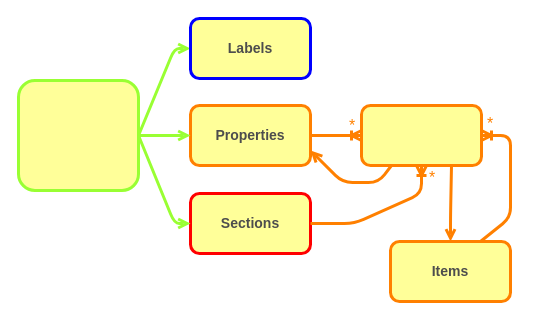
The diagram is 537 pixels wide and 320 high, and some of its shapes have lost their labels. The shapes that lost their labels are listed below. From the top down, each one's centre as x and y in pixels, then its label:
At (x=78, y=135): "Entity: Use Case, Scenario, Step, ...".
At (x=421, y=135): "DocuObject".
